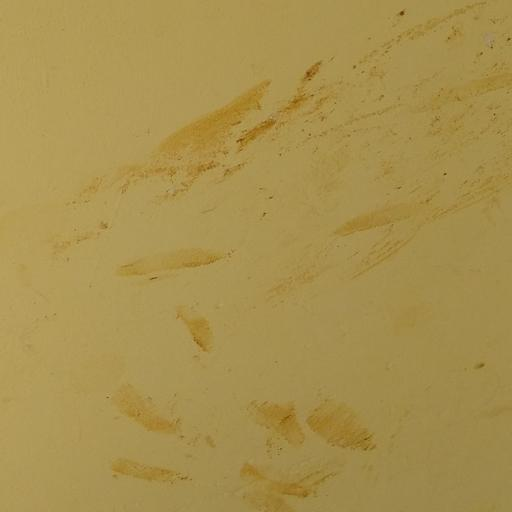stain: (68, 11, 512, 511)
